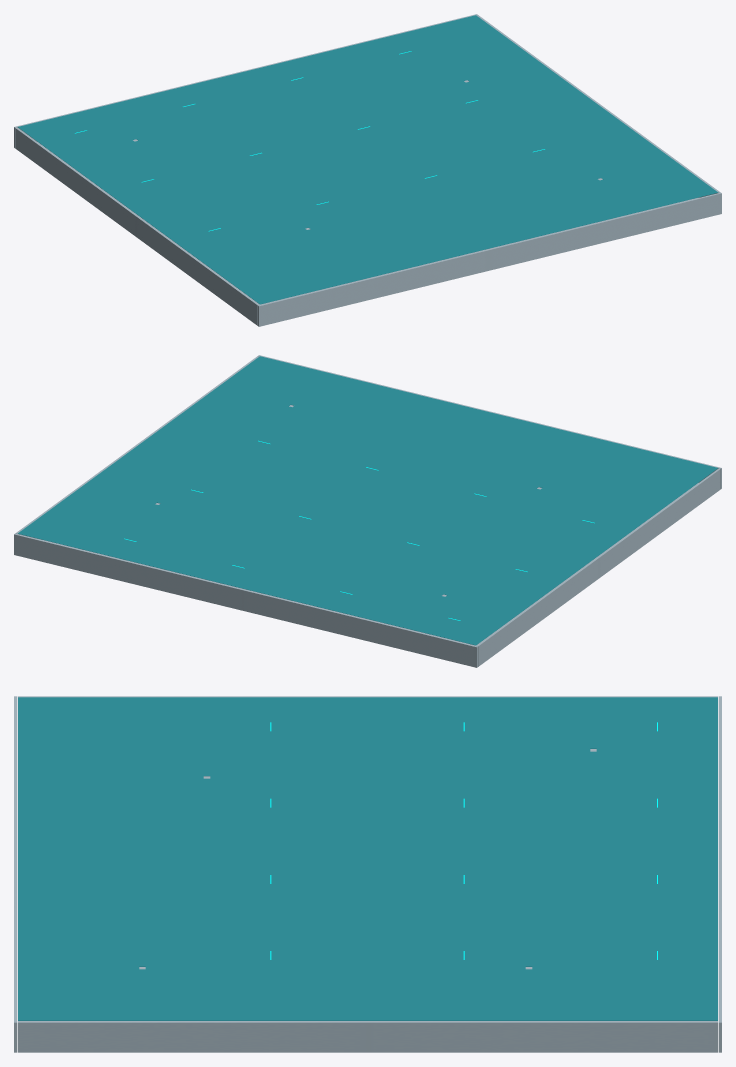
The model's file is tt_leisure_splash.glb.
3 views of the same model, one above another, from view 1: azimuth 30°, elevation 25°; view 2: azimuth 150°, elevation 25°; view 3: azimuth 270°, elevation 25° (orthographic). The views are drawn at different scales.
Parts seen in each view (by area): view 1: Water_Opaque, Tank_Sides, Tank_Ends, Tank_Floor; view 2: Water_Opaque, Tank_Sides, Tank_Ends, Tank_Floor; view 3: Water_Opaque, Tank_Ends, Tank_Sides, Tank_Floor.
Boxes of the visible parts, <box> form: Water_Opaque: <box>18,15,717,304</box>; Tank_Sides: <box>14,14,721,326</box>; Tank_Ends: <box>15,15,720,325</box>; Tank_Floor: <box>37,80,698,304</box>; Water_Opaque: <box>18,356,717,645</box>; Tank_Sides: <box>14,355,721,667</box>; Tank_Ends: <box>15,356,720,666</box>; Tank_Floor: <box>37,405,698,645</box>; Water_Opaque: <box>18,697,717,1020</box>; Tank_Ends: <box>18,696,717,1052</box>; Tank_Sides: <box>14,696,721,1052</box>; Tank_Floor: <box>18,749,717,1021</box>.
Size of what is drawn, in the model's own units: 11.99 by 0.528 by 10.99.
3 materials, 1 textured.
